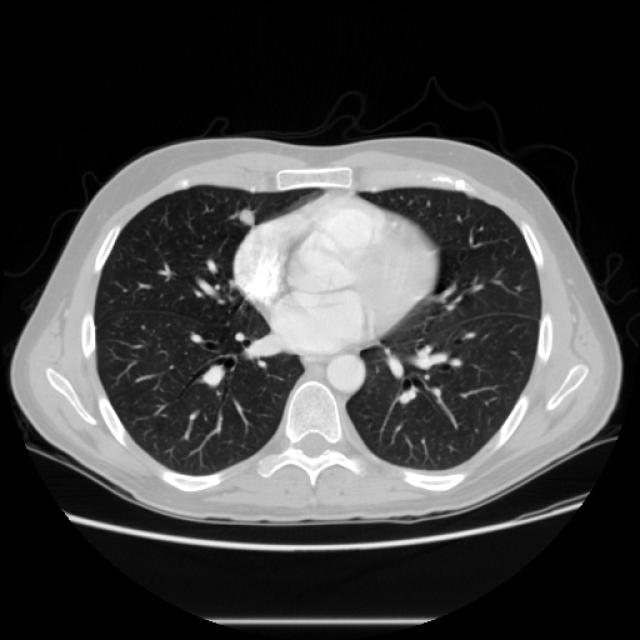nodule: (226, 196, 264, 234)
